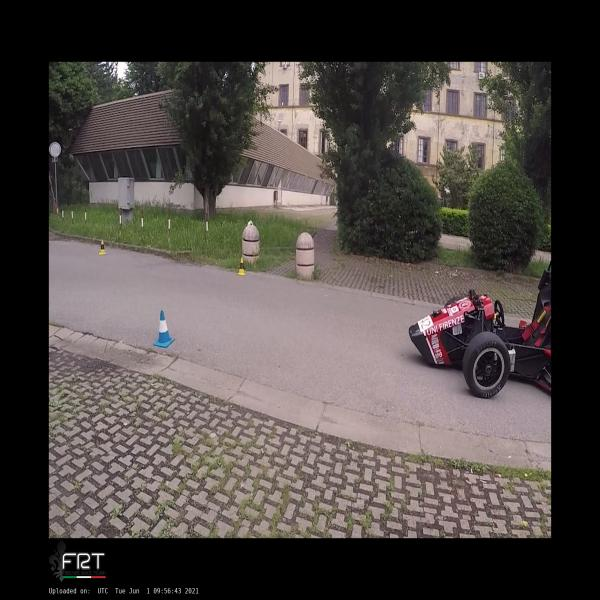blue_cone: (153, 310, 175, 348)
yellow_cone: (236, 257, 246, 275), (99, 240, 107, 255)
